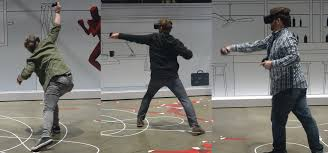oculus: (263, 13, 293, 27), (151, 21, 173, 31)
